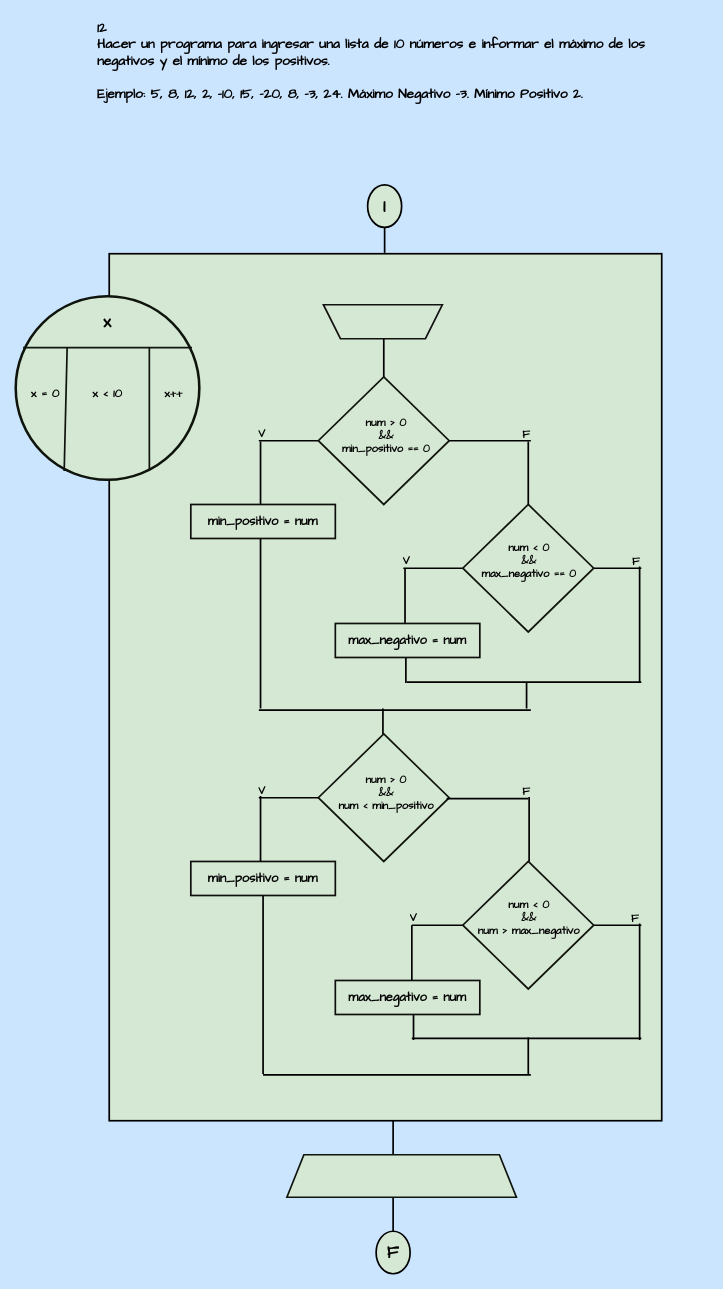
Image size: 723x1289. Some labels were removed from this diagram. Each missing label, with the centre of its shape:
"min_positivo, max_negativo" goes at pixel 401 1175.
"num" goes at pixel 382 321.
